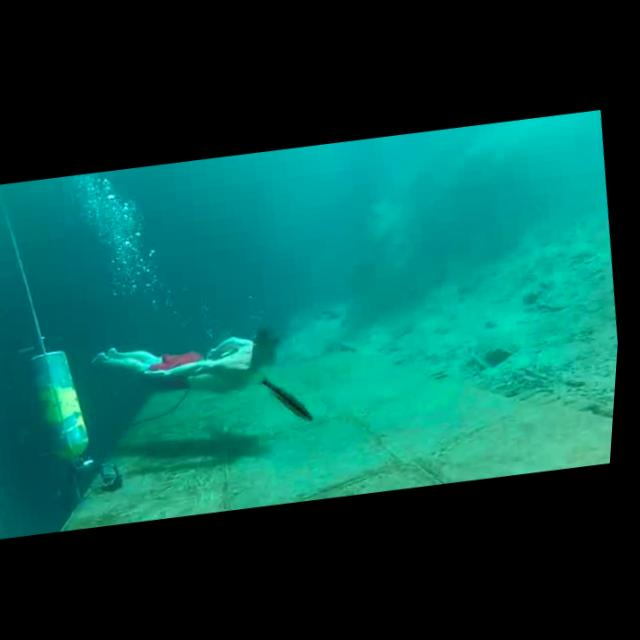human: (89, 312, 298, 411)
